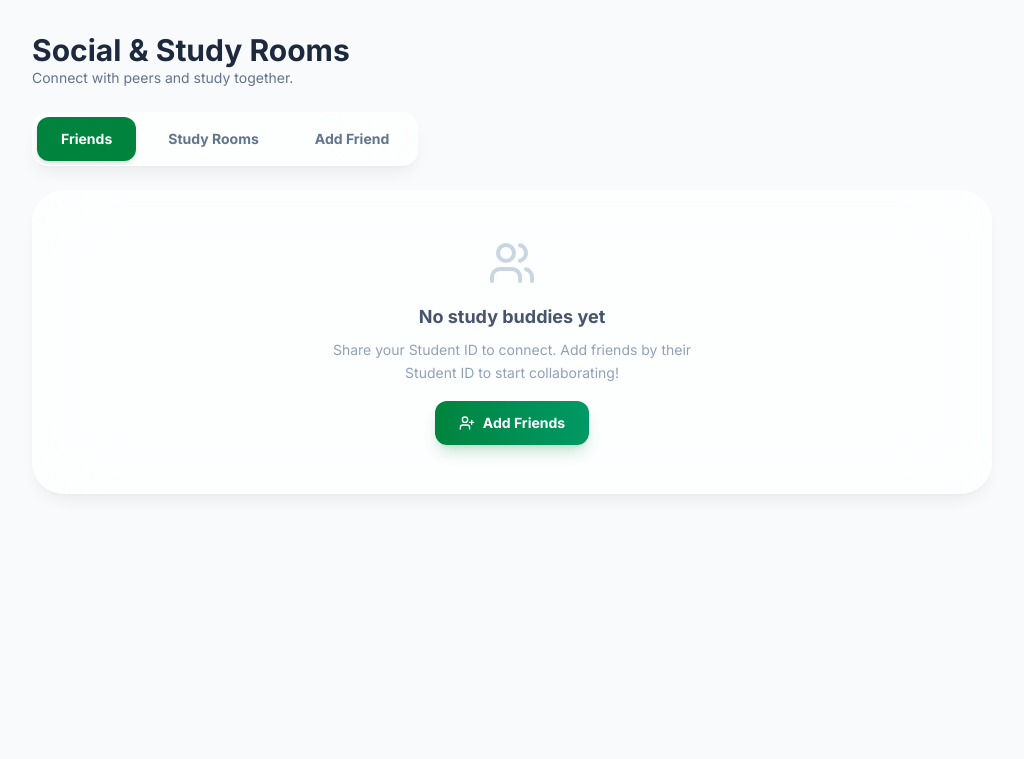
Test: Pages render real content (not empty states) › Social page offers classmates to add
The width and height of the screenshot is (1024, 759).
What coordinates should you click on to do the following:
click the button "Add Friend"
I would click on:
 (352, 139)
Its box is 291,117 -> 413,161.
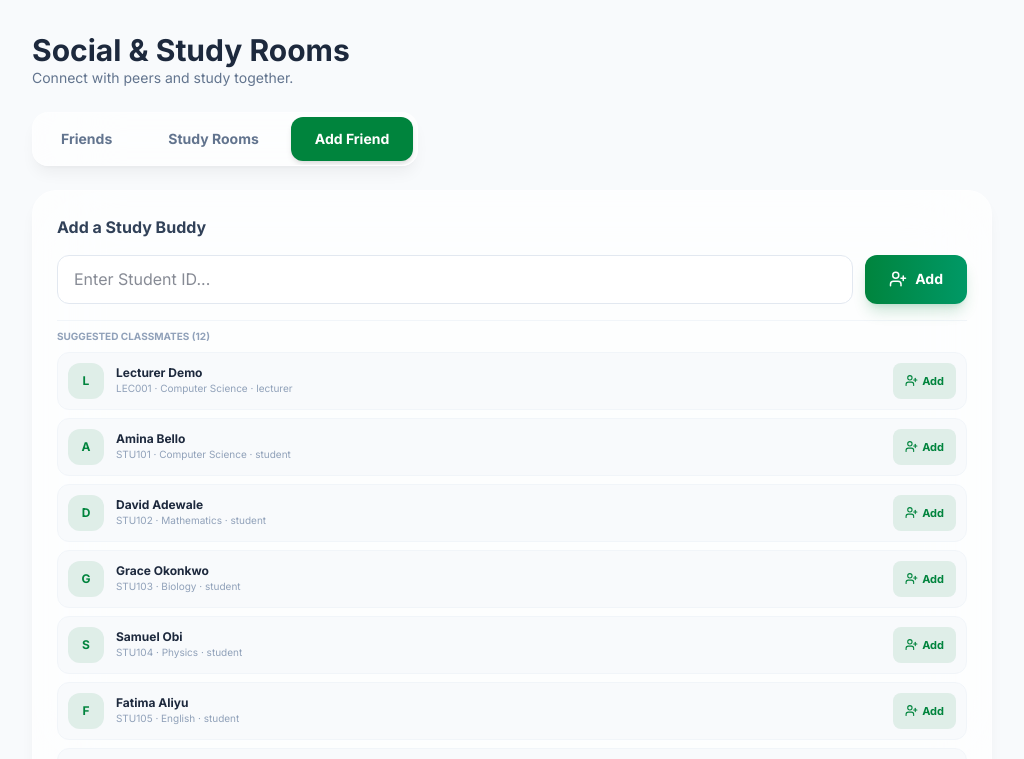
Now the text "Suggested classmates (12)" is shown, box 57,330 -> 210,342
